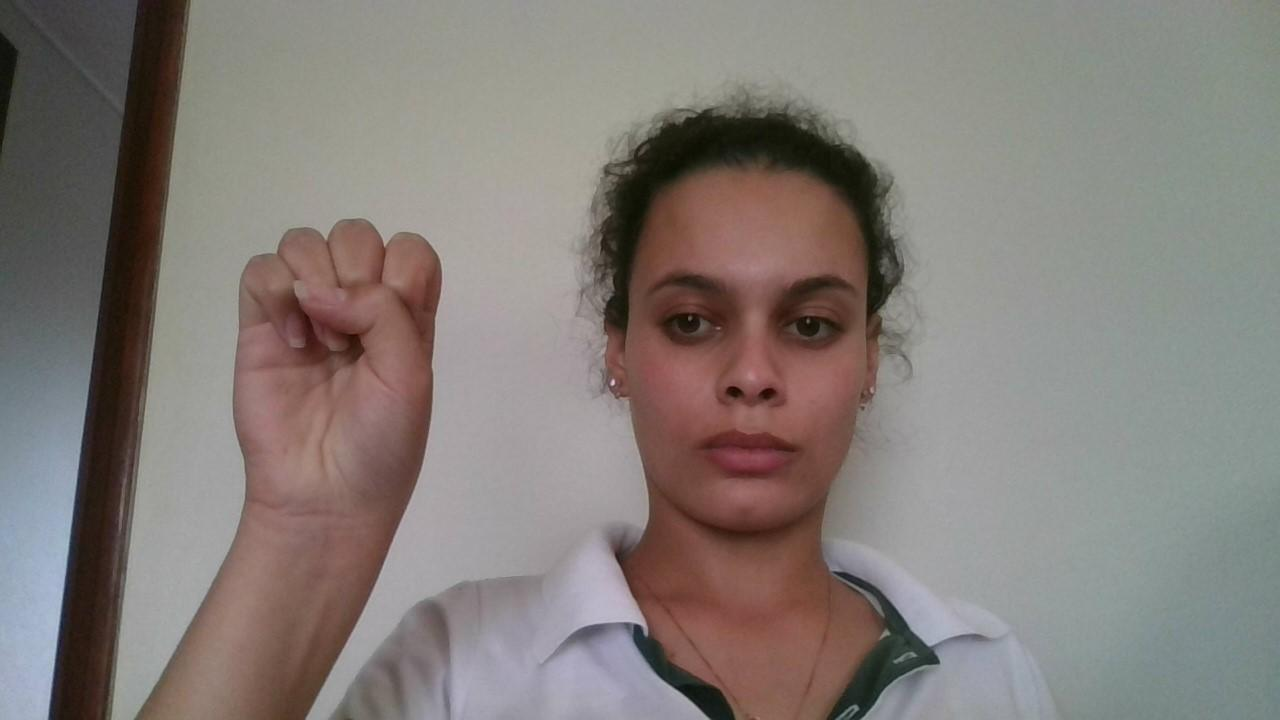S: (218, 216, 446, 510)
